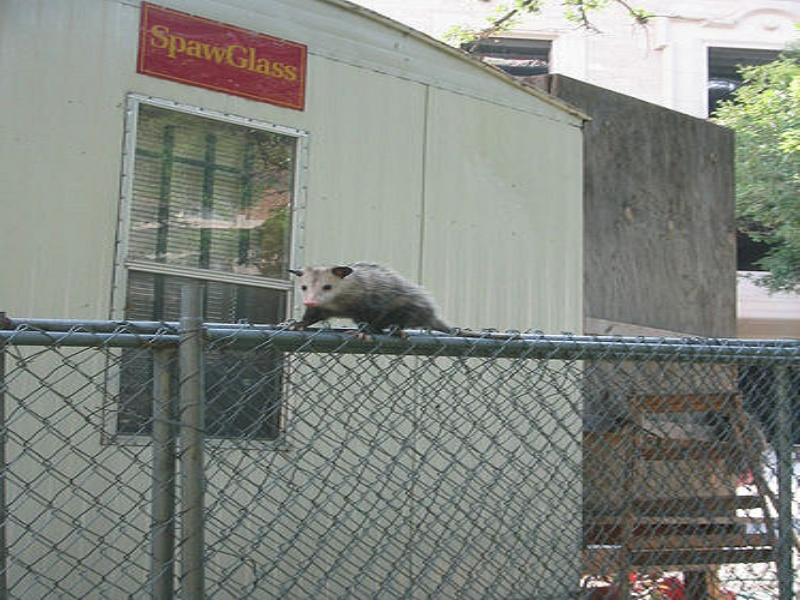opossum: (286, 257, 540, 343)
